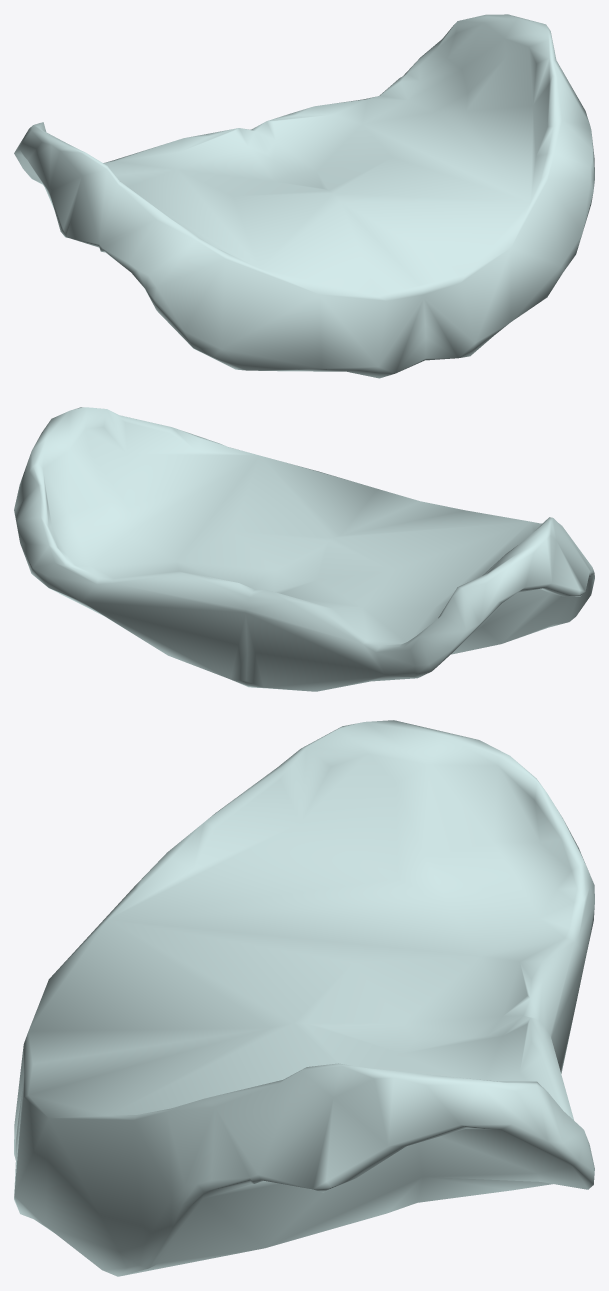
Rendered from Intervertebral_disc_C3-C4_Generated_Mesh_From_X3D.096.glb.
3 views of the same model, one above another, from view 1: azimuth 30°, elevation 25°; view 2: azimuth 150°, elevation 25°; view 3: azimuth 270°, elevation 25° (orthographic). The views are drawn at different scales.
Parts seen in each view (by area): view 1: Intervertebral_disc_C3-C4_Generated_Mesh_From_X3D.096; view 2: Intervertebral_disc_C3-C4_Generated_Mesh_From_X3D.096; view 3: Intervertebral_disc_C3-C4_Generated_Mesh_From_X3D.096.
Boxes of the visible parts, x1,y1,x2,y2 form: Intervertebral_disc_C3-C4_Generated_Mesh_From_X3D.096: (14,14,594,378); Intervertebral_disc_C3-C4_Generated_Mesh_From_X3D.096: (14,407,594,691); Intervertebral_disc_C3-C4_Generated_Mesh_From_X3D.096: (14,720,594,1276).
Size of the model in its own units: 0.0242 by 0.00864 by 0.0159.
